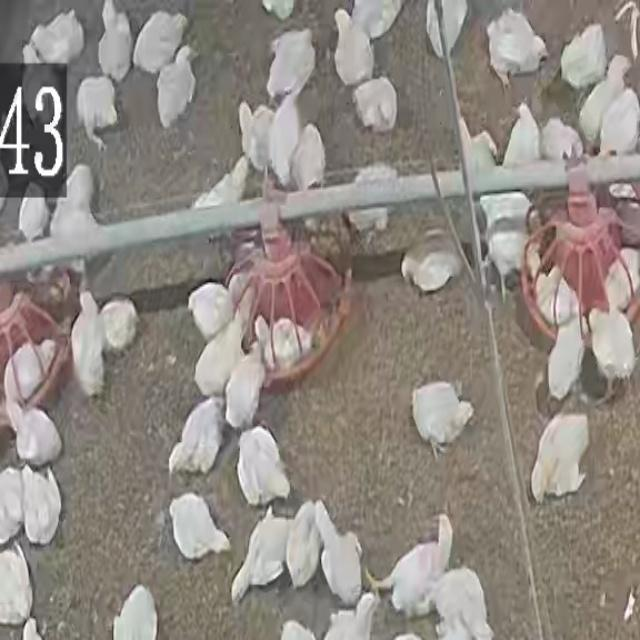chicken: (369, 506, 456, 613), (528, 410, 591, 508), (230, 506, 293, 602), (395, 222, 468, 300), (312, 500, 365, 605), (192, 306, 251, 398), (484, 8, 548, 88), (236, 422, 295, 507), (426, 567, 494, 640), (409, 380, 475, 455), (167, 398, 226, 477), (6, 394, 64, 472), (588, 305, 638, 395), (168, 493, 231, 563), (543, 308, 586, 408), (69, 290, 107, 398), (131, 8, 188, 78), (265, 26, 316, 102), (2, 338, 60, 404), (154, 46, 198, 130), (224, 346, 268, 428), (558, 20, 609, 90), (95, 1, 136, 88), (21, 463, 64, 545), (283, 500, 322, 590), (331, 9, 374, 90), (253, 311, 315, 367), (75, 76, 119, 151), (186, 280, 237, 340), (0, 542, 35, 626), (534, 267, 578, 331), (352, 76, 399, 134), (111, 584, 159, 640), (291, 124, 327, 194), (99, 296, 140, 351), (601, 251, 638, 311), (540, 113, 584, 163)
